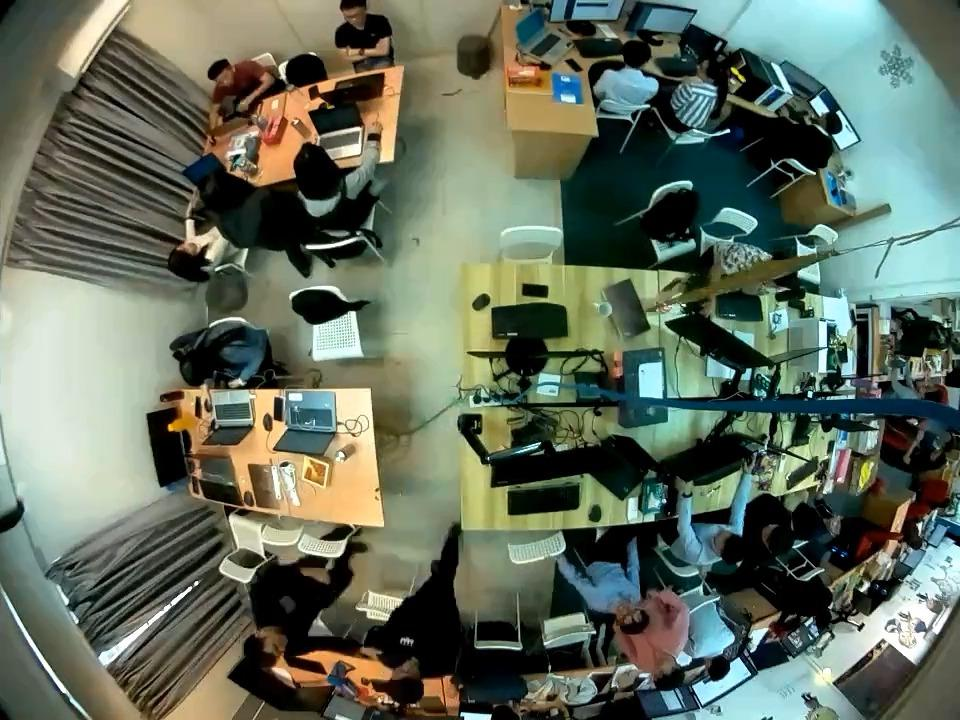name-tag: (396, 634, 418, 648)
